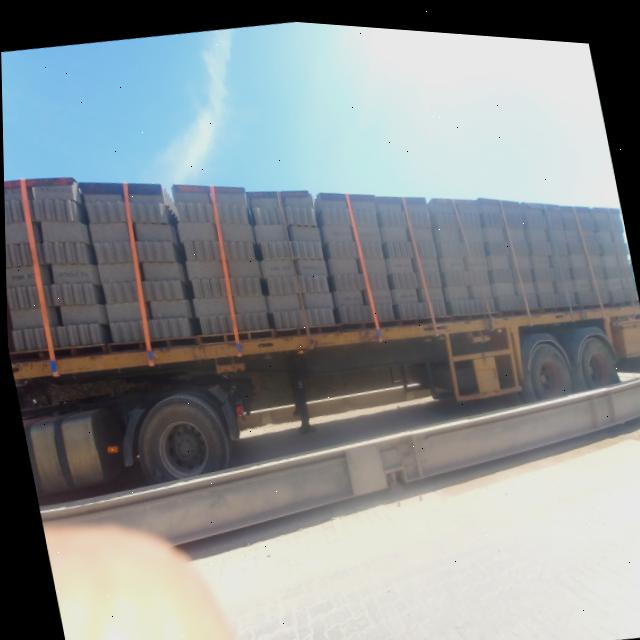bricks: (4, 178, 636, 360)
